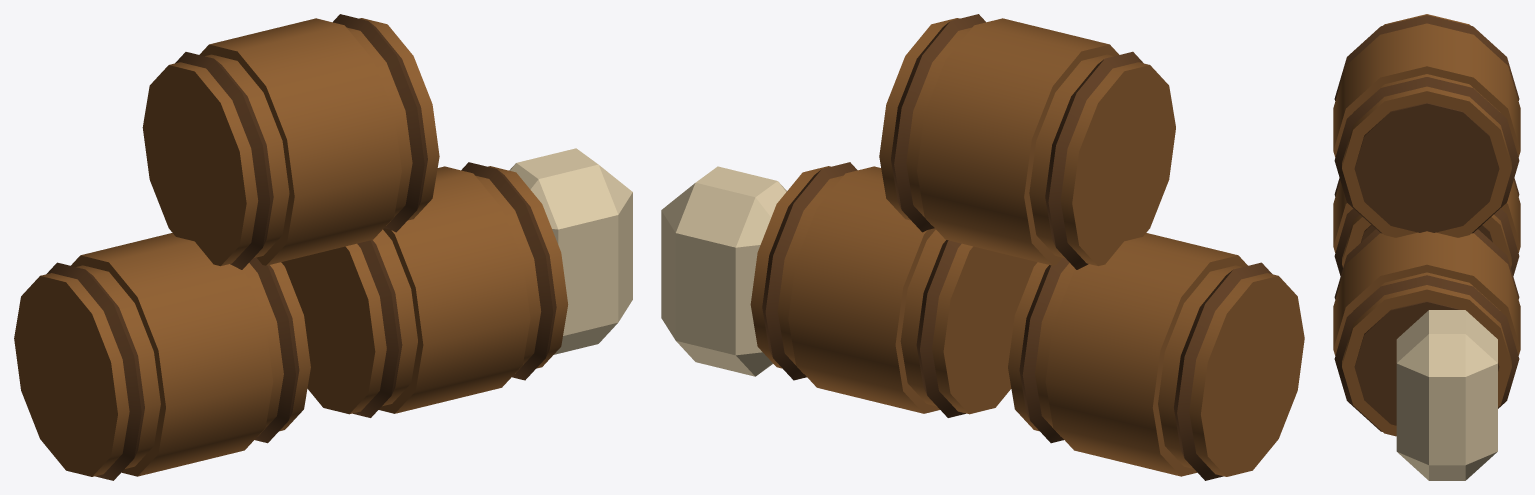
The model's file is PR_Decor_FiciYigini.fbx.
3 views of the same model, side by side, from view 1: azimuth 30°, elevation 25°; view 2: azimuth 150°, elevation 25°; view 3: azimuth 270°, elevation 25° (orthographic). The views are drawn at different scales.
Visible parts, largest first — view 1: PR_Decor_FiciYigini; view 2: PR_Decor_FiciYigini; view 3: PR_Decor_FiciYigini.
Part boxes in pixels (bbox=[...]): PR_Decor_FiciYigini: bbox=[14, 14, 632, 480]; PR_Decor_FiciYigini: bbox=[661, 14, 1304, 480]; PR_Decor_FiciYigini: bbox=[1333, 14, 1520, 480].
Size of the model in its own units: 1.32 by 0.862 by 0.462.
